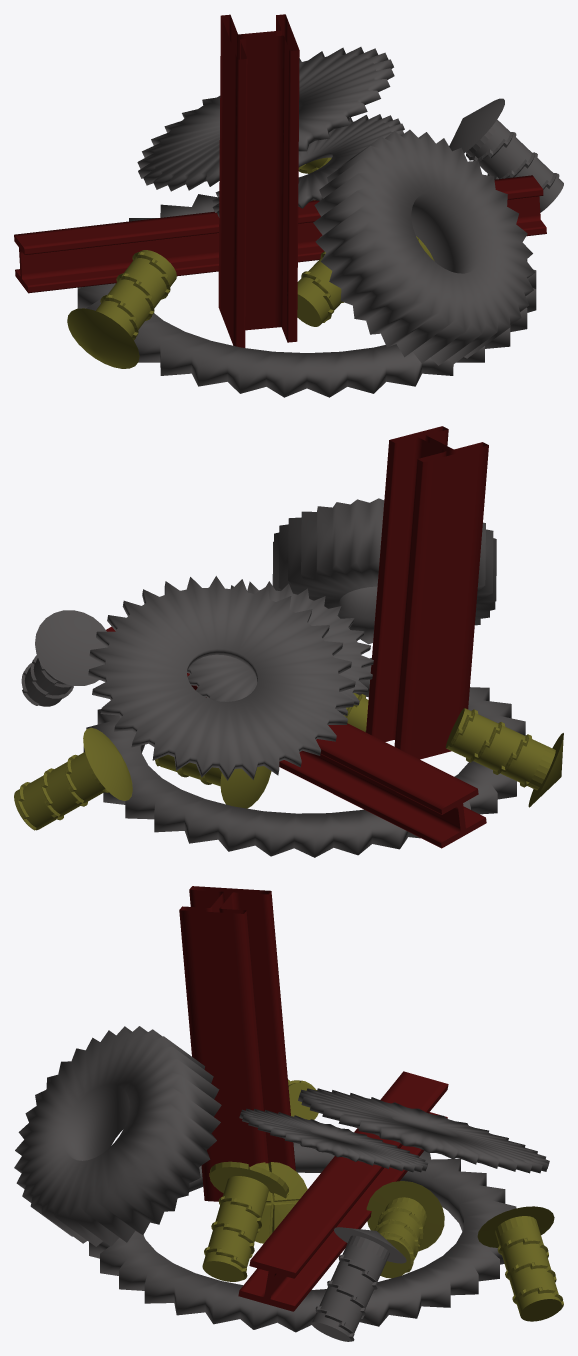
The model's file is Resource.FBX.
The picture shows the model from 3 angles, top to bottom: view 1: azimuth 30°, elevation 25°; view 2: azimuth 150°, elevation 25°; view 3: azimuth 270°, elevation 25°; orthographic projection. The views are drawn at different scales.
Parts seen in each view (by area): view 1: Cylinder007, Cylinder011, Cylinder009, Cylinder012, Cylinder010, Cylinder001, Cylinder006, Cylinder008, Cylinder002; view 2: Cylinder010, Cylinder011, Cylinder009, Cylinder007, Cylinder012, Cylinder005, Cylinder008, Cylinder001, Cylinder006, Cylinder003, Cylinder002; view 3: Cylinder007, Cylinder011, Cylinder009, Cylinder012, Cylinder010, Cylinder004, Cylinder005, Cylinder006, Cylinder003, Cylinder008, Cylinder002, Cylinder001.
Boxes of the visible parts, left/top/right/bottom form: Cylinder007: left=313, top=129, right=535, bottom=365; Cylinder011: left=218, top=14, right=299, bottom=347; Cylinder009: left=77, top=194, right=536, bottom=397; Cylinder012: left=14, top=175, right=546, bottom=293; Cylinder010: left=137, top=47, right=394, bottom=191; Cylinder001: left=67, top=250, right=176, bottom=368; Cylinder006: left=449, top=98, right=563, bottom=212; Cylinder008: left=212, top=114, right=404, bottom=217; Cylinder002: left=297, top=251, right=343, bottom=326; Cylinder010: left=88, top=576, right=355, bottom=780; Cylinder011: left=366, top=426, right=488, bottom=759; Cylinder009: left=83, top=658, right=525, bottom=857; Cylinder007: left=272, top=498, right=496, bottom=644; Cylinder012: left=106, top=626, right=486, bottom=848; Cylinder005: left=14, top=727, right=132, bottom=830; Cylinder008: left=187, top=581, right=373, bottom=715; Cylinder001: left=445, top=708, right=563, bottom=807; Cylinder006: left=21, top=610, right=107, bottom=706; Cylinder003: left=155, top=754, right=271, bottom=808; Cylinder002: left=343, top=693, right=368, bottom=732; Cylinder007: left=14, top=1026, right=221, bottom=1246; Cylinder011: left=179, top=886, right=295, bottom=1201; Cylinder009: left=89, top=1142, right=516, bottom=1332; Cylinder012: left=238, top=1071, right=448, bottom=1311; Cylinder010: left=298, top=1088, right=549, bottom=1173; Cylinder004: left=202, top=1161, right=288, bottom=1281; Cylinder005: left=477, top=1206, right=563, bottom=1321; Cylinder006: left=311, top=1227, right=406, bottom=1341; Cylinder003: left=366, top=1181, right=444, bottom=1278; Cylinder008: left=239, top=1108, right=428, bottom=1172; Cylinder002: left=249, top=1162, right=307, bottom=1243; Cylinder001: left=288, top=1079, right=318, bottom=1119.
Bounding box in the file's own units: 259 × 160 × 254.
